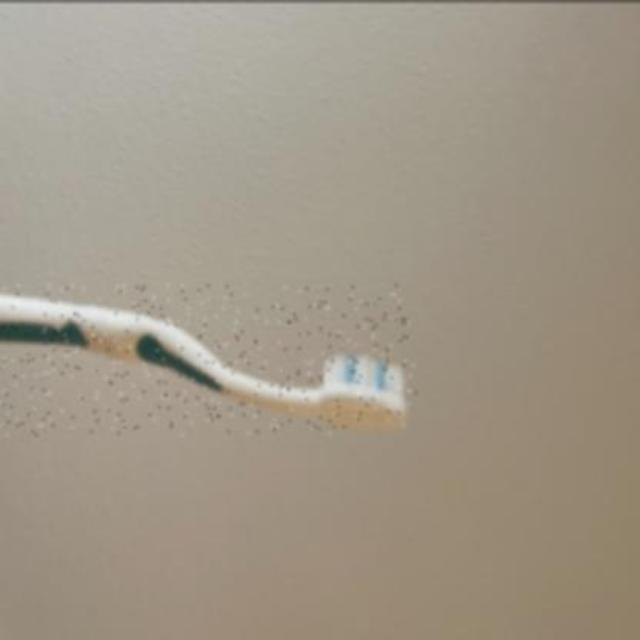toothbrush: (0, 283, 416, 433)
